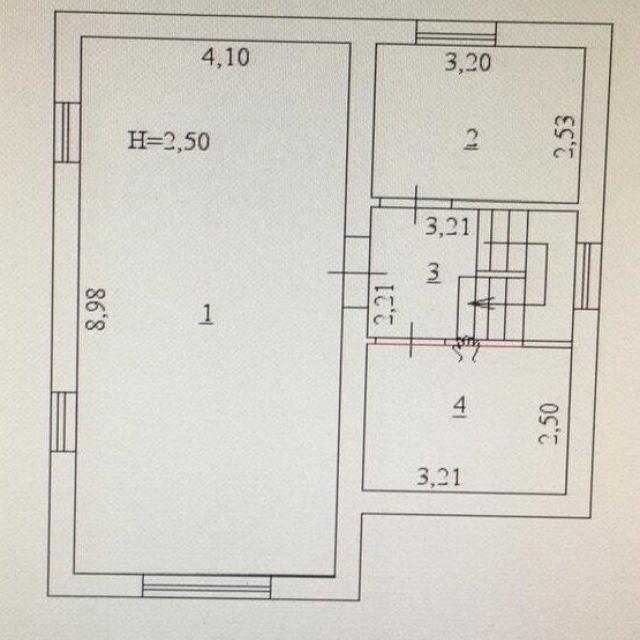Corridors: (368, 209, 452, 338)
Doors: (326, 236, 389, 309), (379, 183, 453, 226), (375, 321, 446, 360)
LBwalls: (271, 308, 601, 601), (52, 11, 417, 237), (497, 20, 613, 243), (47, 451, 142, 599), (50, 162, 80, 392)
Offices: (75, 38, 349, 575), (373, 44, 584, 201), (362, 346, 571, 493)
Stairs: (446, 209, 577, 340)
Walls: (451, 199, 578, 211), (444, 338, 572, 348), (371, 197, 381, 209), (367, 337, 378, 345)
Windows: (142, 573, 271, 600), (416, 20, 497, 46), (573, 242, 603, 309), (53, 102, 82, 163), (51, 392, 78, 452)
